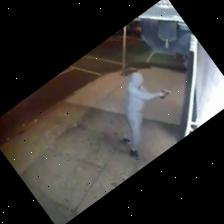person: (120, 68, 169, 159)
